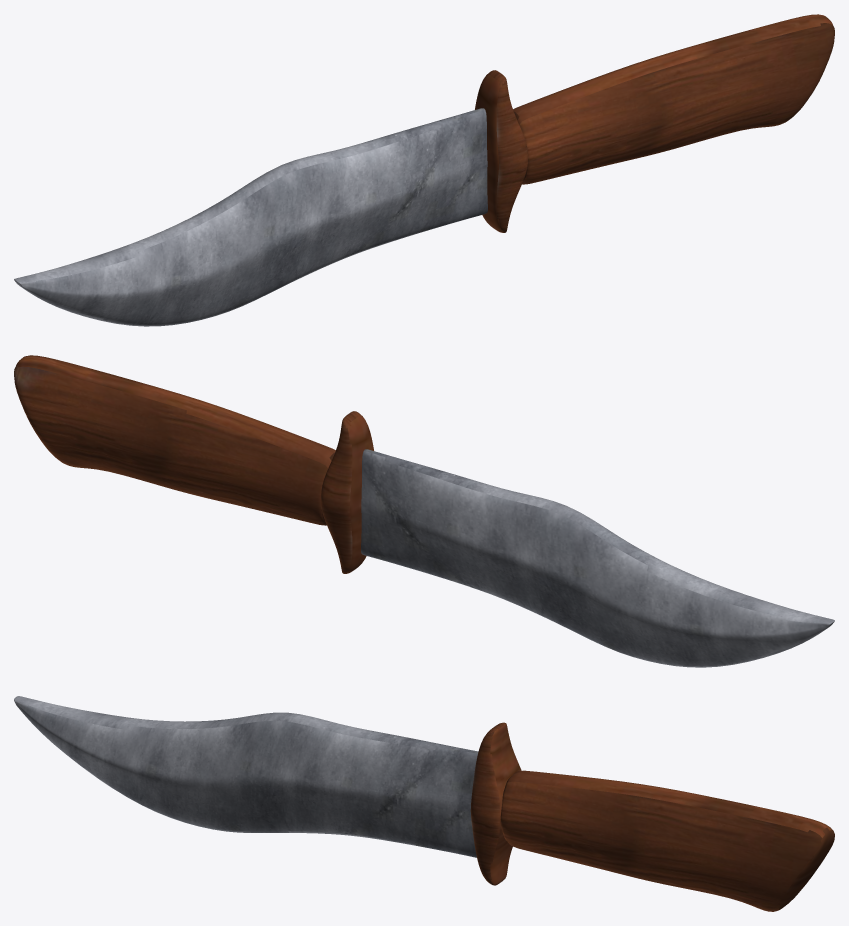
Rendered from Knife.fbx.
3 renders of one model, top to bottom at view 1: azimuth 30°, elevation 25°; view 2: azimuth 150°, elevation 25°; view 3: azimuth 330°, elevation 25°, orthographic.
Parts seen in each view (by area): view 1: Cube.002; view 2: Cube.002; view 3: Cube.002.
Part boxes in pixels (x1,y1,x2,y2): Cube.002: (14, 14, 834, 326); Cube.002: (14, 355, 834, 667); Cube.002: (14, 696, 834, 911).
Size of the model in its own units: 434 by 88.57 by 30.32.
